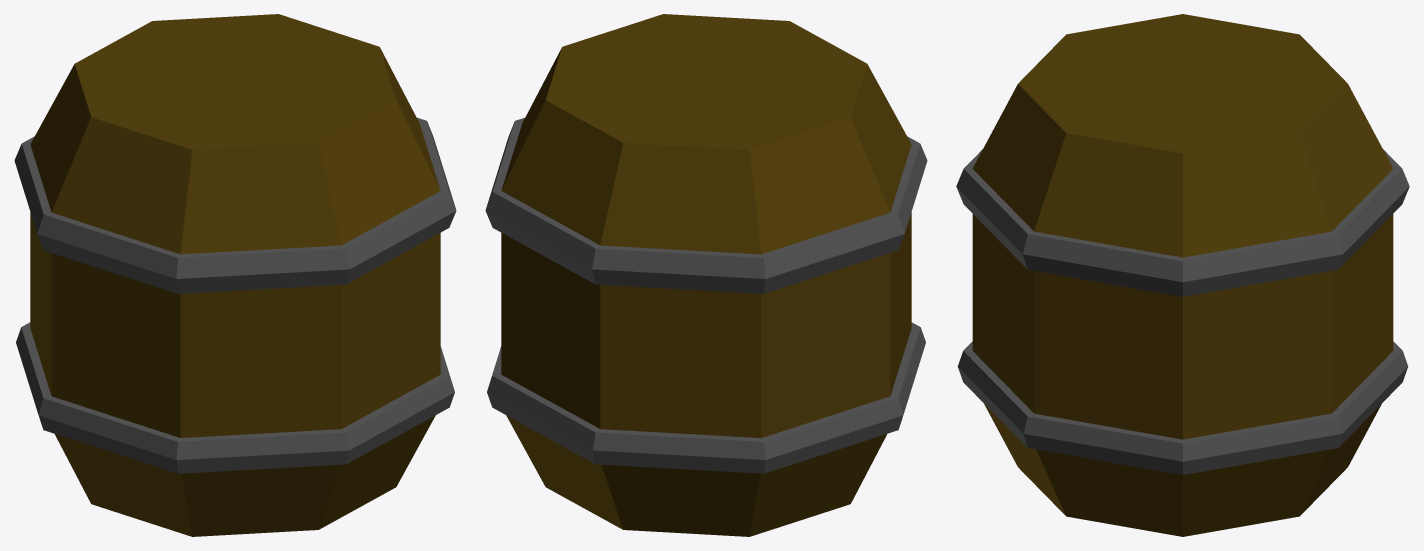
Rendered from Barrel.dae.
3 renders of one model, left to right at view 1: azimuth 30°, elevation 25°; view 2: azimuth 150°, elevation 25°; view 3: azimuth 270°, elevation 25°, orthographic.
Visible parts, largest first — view 1: Circle; view 2: Circle; view 3: Circle.
Part boxes in pixels (box(x1,y1,x2,y2)): Circle: box(14, 14, 456, 536); Circle: box(485, 14, 927, 536); Circle: box(956, 14, 1409, 536).
Bounding box in the file's own units: 2.14 × 2.14 × 2.
